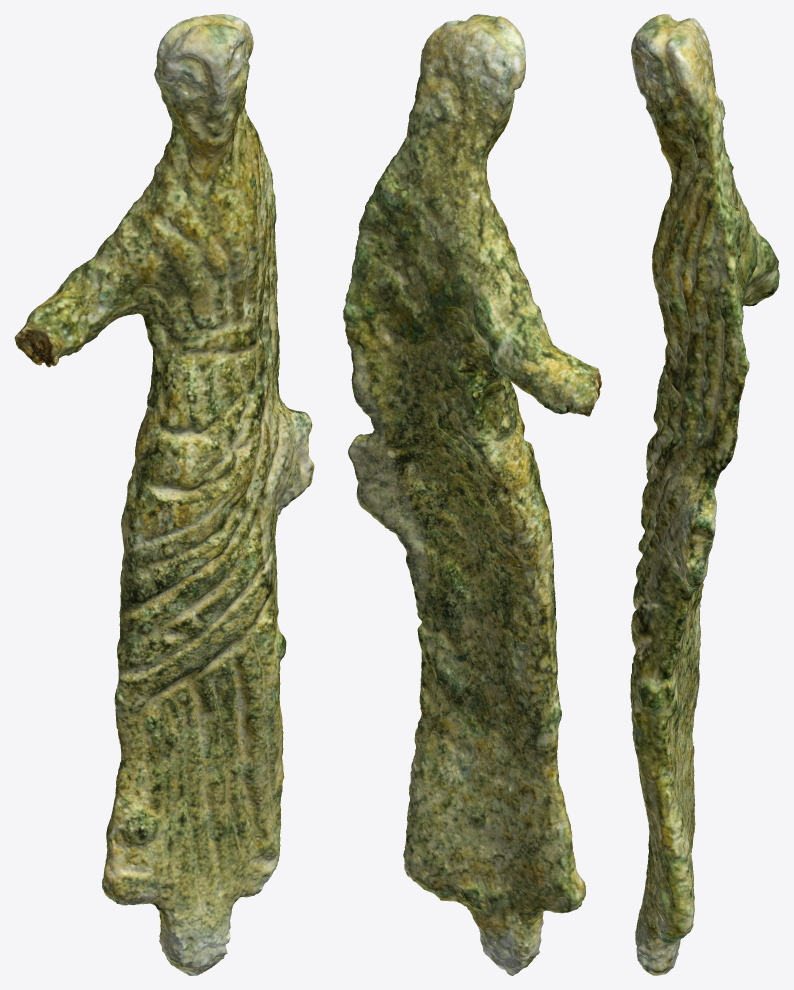
Rendered from bronze_figurine.glb.
3 renders of one model, left to right at view 1: azimuth 30°, elevation 25°; view 2: azimuth 150°, elevation 25°; view 3: azimuth 270°, elevation 25°, orthographic.
Visible parts, largest first — view 1: Object_2, Object_3, Object_4; view 2: Object_3, Object_2, Object_4; view 3: Object_2, Object_3, Object_4.
Part boxes in pixels (bbox=[...]): Object_2: bbox=[18, 14, 314, 785]; Object_3: bbox=[18, 65, 288, 975]; Object_4: bbox=[14, 15, 313, 946]; Object_3: bbox=[343, 137, 590, 975]; Object_2: bbox=[345, 14, 597, 733]; Object_4: bbox=[343, 15, 601, 932]; Object_2: bbox=[631, 14, 779, 843]; Object_3: bbox=[632, 181, 778, 975]; Object_4: bbox=[630, 14, 779, 843].
Size of the model in its own units: 0.0241 by 0.0813 by 0.0114.
Materials: 1 (1 with a texture image).
